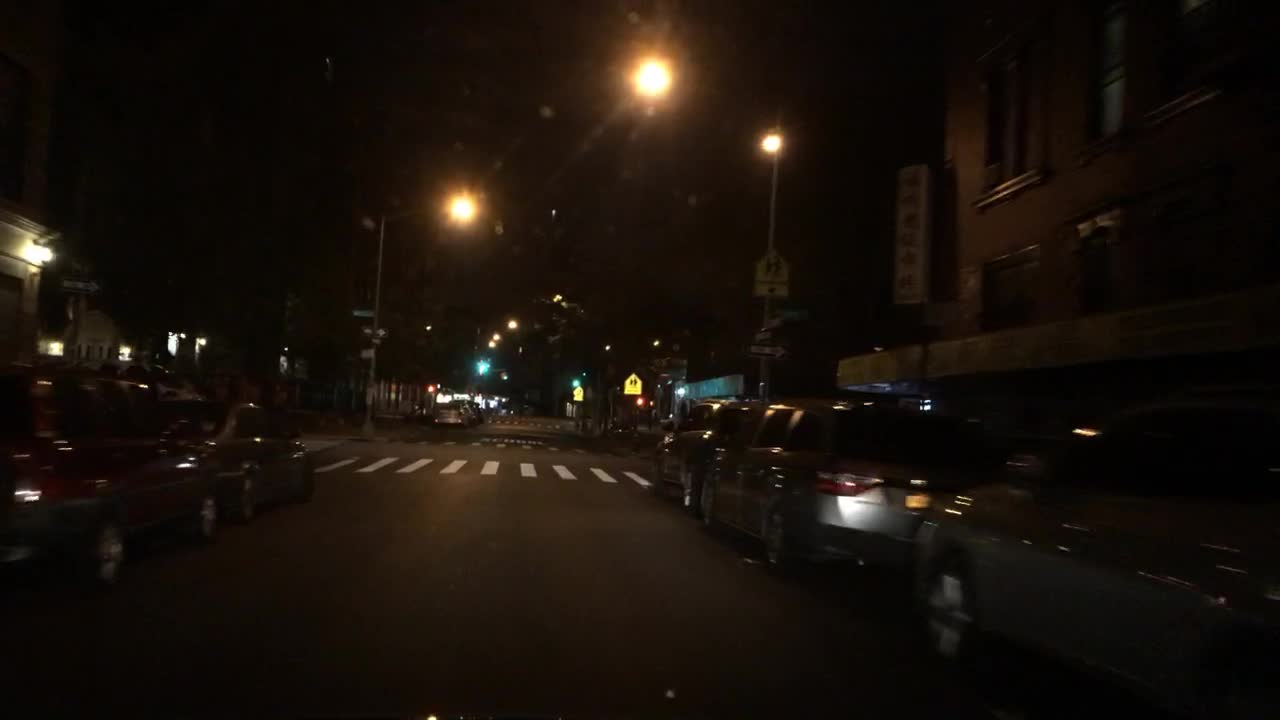car: (902, 398, 1278, 718), (701, 396, 995, 573), (0, 361, 220, 587), (205, 399, 314, 526), (648, 404, 728, 514), (431, 403, 466, 425), (465, 401, 486, 421), (462, 404, 476, 422)
traffic light: (476, 359, 486, 375), (571, 376, 581, 388)
traffic sign: (753, 252, 789, 298), (64, 278, 98, 291), (623, 371, 641, 395), (749, 344, 788, 355), (773, 308, 808, 316), (364, 326, 389, 336), (351, 308, 376, 316), (360, 348, 376, 359), (762, 318, 781, 326), (571, 388, 582, 400), (756, 330, 767, 340)
